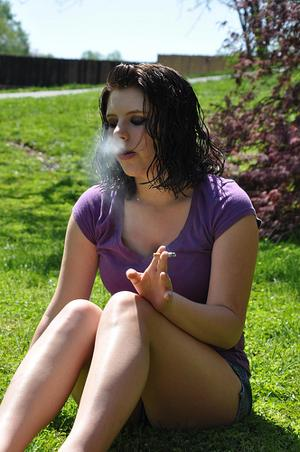person: (3, 60, 262, 450)
